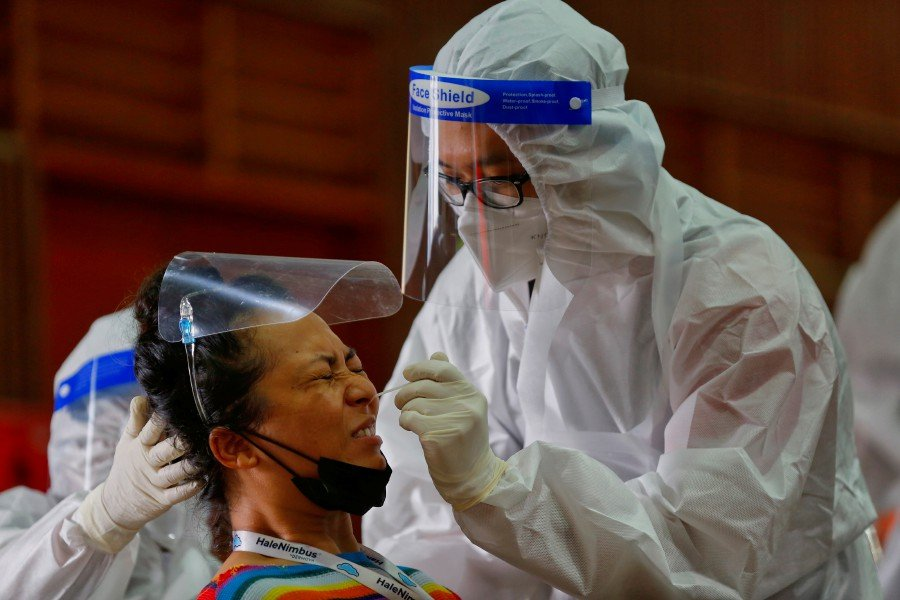Coverall: (375, 1, 880, 582)
Face_Shield: (394, 55, 603, 320), (157, 237, 409, 346)
Mask: (431, 115, 553, 297)
gloves: (75, 390, 202, 570), (392, 353, 511, 514)
mask_weared_incorrect: (267, 313, 401, 522)
